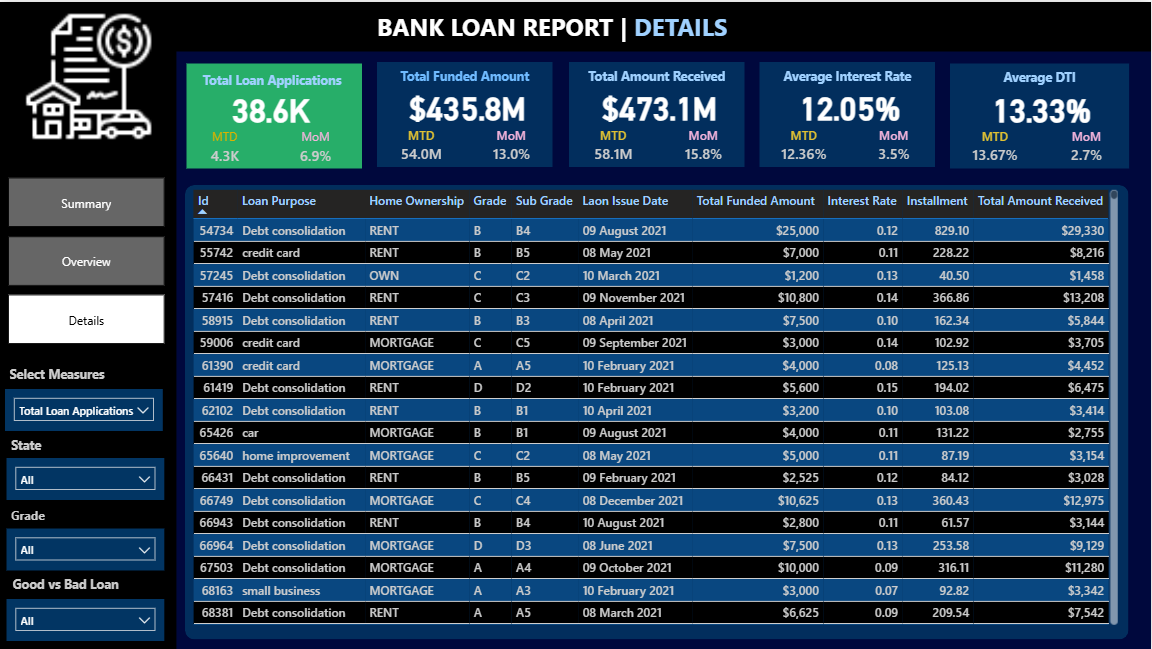

The page's visual inventory and layout, read from the dashboard file:
{"tool":"powerbi","page":{"name":"Details","canvas":[1280,720],"ordinal":2},"visuals":[{"type":"shape","box":[420.4,66.7,195,116.7],"z":0,"group":"g2"},{"type":"shape","box":[632.5,66.7,195,116.7],"z":0,"group":"g3"},{"type":"shape","box":[844.6,66.7,195,116.7],"z":0,"group":"g4"},{"type":"shape","box":[207.1,68.3,195,116.7],"z":0,"group":"g1"},{"type":"shape","box":[1056.7,68.3,199,116.7],"z":0,"group":"g5"},{"type":"shape","box":[206.7,203.3,1048.3,505],"z":0},{"type":"slicer","title":"State","fields":{"Values":["Select Measure.Select Measure"]},"box":[7.1,430.3,175,46.7],"z":0,"group":"g10"},{"type":"slicer","title":"State","fields":{"Values":["bank_loan_data.address_state"]},"box":[8.6,507.1,175,46.7],"z":0,"group":"g13"},{"type":"slicer","title":"State","fields":{"Values":["bank_loan_data.grade"]},"box":[8.6,584.3,175,46.7],"z":0,"group":"g11"},{"type":"slicer","title":"State","fields":{"Values":["bank_loan_data.Good vs Bad Loan"]},"box":[8.6,662.4,175,46.7],"z":0,"group":"g12"},{"type":"shape","box":[0,52.9,197.1,667.1],"z":1000},{"type":"card","fields":{"Values":["Measure Table.Total Funded Amount"]},"box":[450.4,93.4,140,45],"z":1000,"group":"g2"},{"type":"card","fields":{"Values":["Measure Table.Total Amount Received"]},"box":[662.5,93.4,140,45],"z":1000,"group":"g3"},{"type":"card","fields":{"Values":["Measure Table.Average Interest Rate"]},"box":[874.6,93.4,140,45],"z":1000,"group":"g4"},{"type":"card","fields":{"Values":["Measure Table.Total Loan Applications"]},"box":[216.1,94.4,170,45],"z":1000,"group":"g1"},{"type":"card","fields":{"Values":["Measure Table.Average DTI"]},"box":[1087.3,95,142.9,45],"z":1000,"group":"g5"},{"type":"textbox","box":[6.9,398,188.6,28.6],"z":1000,"group":"g10"},{"type":"textbox","box":[8.6,477.1,76.7,30],"z":1000,"group":"g13"},{"type":"textbox","box":[8.6,554.3,76.7,30],"z":1000,"group":"g11"},{"type":"textbox","box":[10.6,631.4,181.4,32.9],"z":1000,"group":"g12"},{"type":"shape","box":[0,0,1280,55],"z":2000},{"type":"textbox","box":[420.4,66.7,195,36.7],"z":2000,"group":"g2"},{"type":"textbox","box":[632.5,66.7,195,36.7],"z":2000,"group":"g3"},{"type":"textbox","box":[844.6,66.7,195,36.7],"z":2000,"group":"g4"},{"type":"textbox","box":[1056.7,68.3,199,36.7],"z":2000,"group":"g5"},{"type":"textbox","box":[202.6,71.1,200,31.7],"z":2000,"group":"g1"},{"type":"textbox","box":[415,3.3,448.3,50],"z":3000},{"type":"card","title":"MTD","fields":{"Values":["Measure Table.MTD Funded Amount"]},"box":[435.4,138.4,68.3,45],"z":3000,"group":"g2"},{"type":"card","title":"MTD","fields":{"Values":["Measure Table.MTD Amount Received"]},"box":[647.5,138.4,68.3,45],"z":3000,"group":"g3"},{"type":"card","title":"MTD","fields":{"Values":["Measure Table.MTD Average Interest Rate"]},"box":[859.6,138.4,68.3,45],"z":3000,"group":"g4"},{"type":"card","title":"MTD","fields":{"Values":["Measure Table.MTD Loan Applications"]},"box":[196.1,139.4,108.3,46.7],"z":3000,"group":"g1"},{"type":"card","title":"MTD","fields":{"Values":["Measure Table.MTD Average DTI"]},"box":[1072,140,69.7,45],"z":3000,"group":"g5"},{"type":"group","id":"g1","title":"Group 2","box":[196.1,68.3,206.7,117.8],"z":4000},{"type":"card","title":"MoM","fields":{"Values":["Measure Table.MOM Funded Amount"]},"box":[535.4,138.4,68.3,45],"z":4000,"group":"g2"},{"type":"card","title":"MoM","fields":{"Values":["Measure Table.MoM Amount Received"]},"box":[747.5,138.4,68.3,45],"z":4000,"group":"g3"},{"type":"card","title":"MoM","fields":{"Values":["Measure Table.MoM Average Interest Rate"]},"box":[959.6,138.4,68.3,45],"z":4000,"group":"g4"},{"type":"card","title":"MoM","fields":{"Values":["Measure Table.MOM Loan Applications"]},"box":[299.4,139.4,103.3,46.7],"z":4000,"group":"g1"},{"type":"card","title":"MoM","fields":{"Values":["Measure Table.MoM Average DTI"]},"box":[1174.1,140,69.7,45],"z":4000,"group":"g5"},{"type":"group","id":"g2","title":"Group 1","box":[420.4,66.7,195,116.7],"z":4001,"group":"g6"},{"type":"group","id":"g3","title":"Group 1","box":[632.5,66.7,195,116.7],"z":4001,"group":"g7"},{"type":"group","id":"g4","title":"Group 1","box":[844.6,66.7,195,116.7],"z":4001,"group":"g9"},{"type":"group","id":"g5","title":"Group 1","box":[1056.7,68.3,199,116.7],"z":4001,"group":"g8"},{"type":"group","id":"g6","title":"Group 3","box":[420.4,66.7,195,116.7],"z":5000},{"type":"group","id":"g7","title":"Group 3","box":[632.5,66.7,195,116.7],"z":6000},{"type":"group","id":"g8","title":"Group 3","box":[1056.7,68.3,199,116.7],"z":7000},{"type":"group","id":"g9","title":"Group 3","box":[844.6,66.7,195,116.7],"z":8000},{"type":"group","id":"g10","title":"Group 5","box":[6.9,398,188.6,78.9],"z":9000},{"type":"group","id":"g11","title":"Group 5","box":[8.6,554.3,175.7,77.1],"z":10000},{"type":"group","id":"g12","title":"Group 5","box":[8.6,631.4,184.3,77.1],"z":11000},{"type":"group","id":"g13","title":"Group 5","box":[8.6,477.1,175.7,77.1],"z":12000},{"type":"tableEx","fields":{"Values":["bank_loan_data.id","bank_loan_data.purpose","bank_loan_data.home_ownership","bank_loan_data.grade","bank_loan_data.sub_grade","bank_loan_data.issue_date","Measure Table.Total Funded Amount","bank_loan_data.int_rate","bank_loan_data.installment","Measure Table.Total Amount Received"]},"box":[210,203.3,1038.3,493.3],"z":13000},{"type":"image","box":[8.6,2.9,182.9,158.6],"z":14000},{"type":"pageNavigator","box":[10,194.3,174.3,187.1],"z":15000}]}

Visuals, with their boxes in screenshot pixels (x1, y1, x2, y2), scaled from the page's 1280x720 canvas onto the 1152x649 screenshot:
shape: 378/60/554/165
shape: 569/60/745/165
shape: 760/60/936/165
shape: 186/62/362/167
shape: 951/62/1130/167
shape: 186/183/1130/638
"State" slicer: 6/388/164/430
"State" slicer: 8/457/165/499
"State" slicer: 8/527/165/569
"State" slicer: 8/597/165/639
shape: 0/48/177/648
card - Measure Table.Total Funded Amount: 405/84/531/125
card - Measure Table.Total Amount Received: 596/84/722/125
card - Measure Table.Average Interest Rate: 787/84/913/125
card - Measure Table.Total Loan Applications: 194/85/347/126
card - Measure Table.Average DTI: 979/86/1107/126
textbox: 6/359/176/385
textbox: 8/430/77/457
textbox: 8/500/77/527
textbox: 10/569/173/599
shape: 0/0/1151/50
textbox: 378/60/554/93
textbox: 569/60/745/93
textbox: 760/60/936/93
textbox: 951/62/1130/95
textbox: 182/64/362/93
textbox: 374/3/777/48
"MTD" card: 392/125/453/165
"MTD" card: 583/125/644/165
"MTD" card: 774/125/835/165
"MTD" card: 176/126/274/168
"MTD" card: 965/126/1028/167
"Group 2" group: 176/62/363/168
"MoM" card: 482/125/543/165
"MoM" card: 673/125/734/165
"MoM" card: 864/125/925/165
"MoM" card: 269/126/362/168
"MoM" card: 1057/126/1119/167
"Group 1" group: 378/60/554/165
"Group 1" group: 569/60/745/165
"Group 1" group: 760/60/936/165
"Group 1" group: 951/62/1130/167
"Group 3" group: 378/60/554/165
"Group 3" group: 569/60/745/165
"Group 3" group: 951/62/1130/167
"Group 3" group: 760/60/936/165
"Group 5" group: 6/359/176/430
"Group 5" group: 8/500/166/569
"Group 5" group: 8/569/174/639
"Group 5" group: 8/430/166/500
tableEx - bank_loan_data.id x bank_loan_data.purpose: 189/183/1123/628
image: 8/3/172/146
pageNavigator: 9/175/166/344
